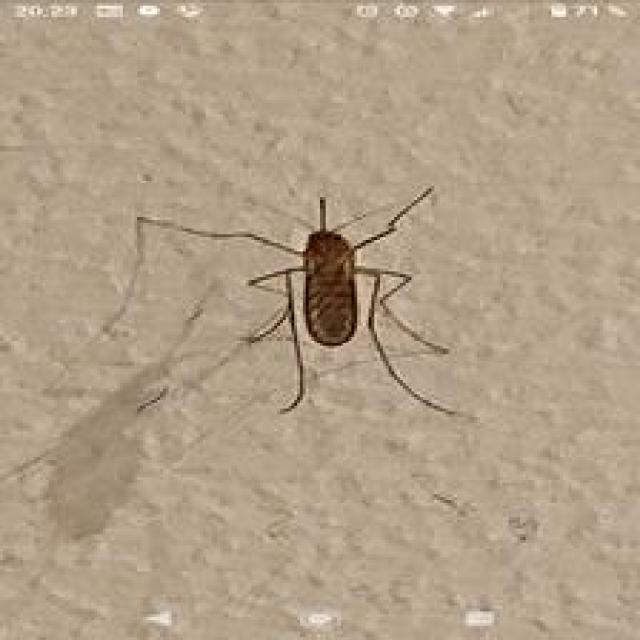Culex: (133, 183, 470, 420)
